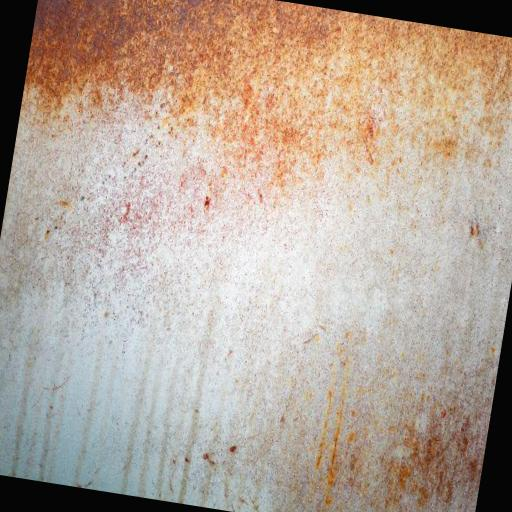segmentation: (25, 0, 512, 188), (380, 402, 484, 512), (325, 367, 347, 503), (315, 369, 335, 469), (204, 195, 210, 209)
